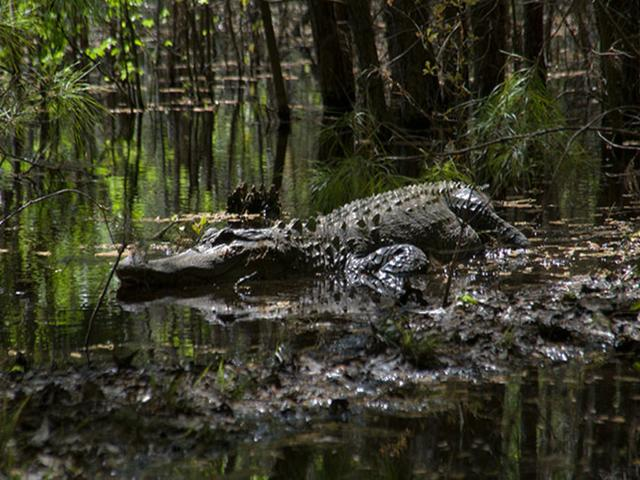crocodile: (92, 193, 543, 310)
